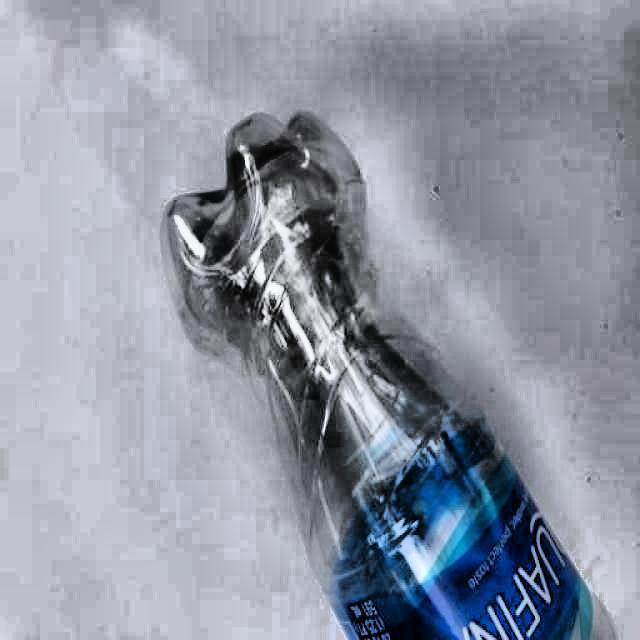plastic: (161, 112, 611, 640)
